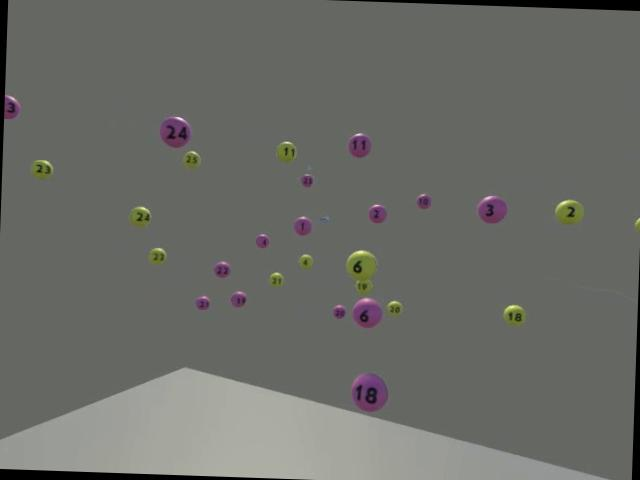ball_01_pink: (293, 216, 312, 235)
ball_02_pink: (368, 204, 387, 223)
ball_02_yellow: (554, 198, 584, 224)
ball_03_pink: (476, 194, 506, 224)
ball_04_pink: (255, 234, 269, 248)
ball_04_yellow: (298, 253, 314, 269)
ball_06_pink: (351, 297, 382, 329)
ball_06_yellow: (346, 249, 376, 281)
ball_10_pink: (416, 194, 431, 208)
ball_11_pink: (347, 133, 372, 158)
ball_11_yellow: (275, 140, 297, 162)
ball_18_pink: (350, 372, 387, 412)
ball_18_yellow: (503, 303, 526, 326)
ball_19_pink: (230, 290, 247, 308)
ball_19_yellow: (356, 278, 372, 293)
ball_20_pink: (332, 304, 346, 318)
ball_20_yellow: (388, 300, 402, 314)
ball_21_pink: (195, 296, 210, 310)
ball_21_yellow: (269, 272, 283, 286)
ball_22_pink: (212, 261, 230, 278)
ball_22_yellow: (148, 247, 166, 265)
ball_23_yellow: (30, 158, 53, 178)
ball_24_pink: (158, 116, 191, 148)
ball_24_yellow: (129, 205, 151, 226)
ball_25_pink: (301, 174, 314, 186)
ball_25_yellow: (182, 150, 200, 169)
ball_unknown: (4, 93, 21, 120), (636, 217, 640, 233)
